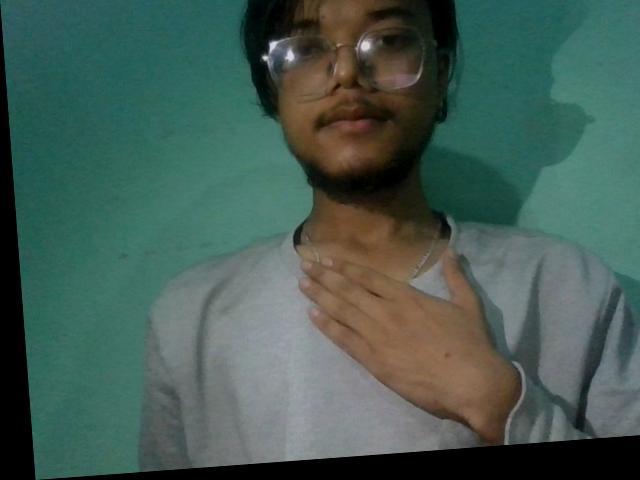Please: (210, 214, 564, 457)
